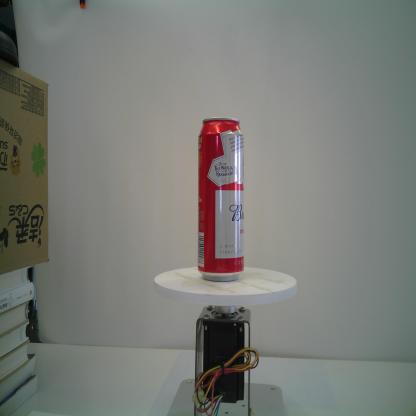Alcohol: (196, 116, 246, 282)
